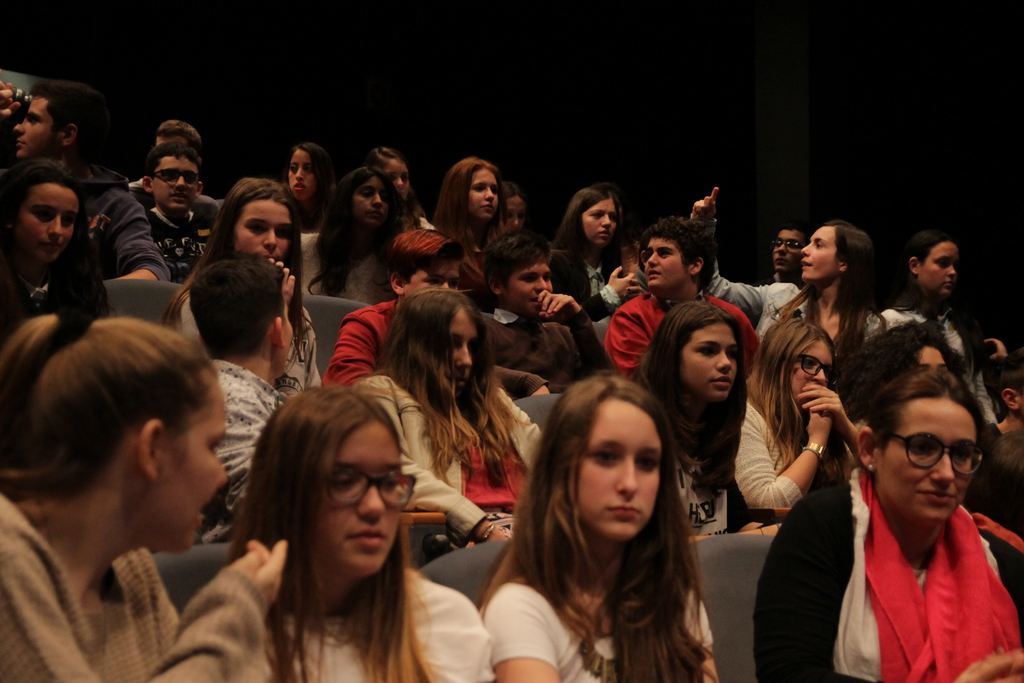face: (432, 308, 483, 386)
